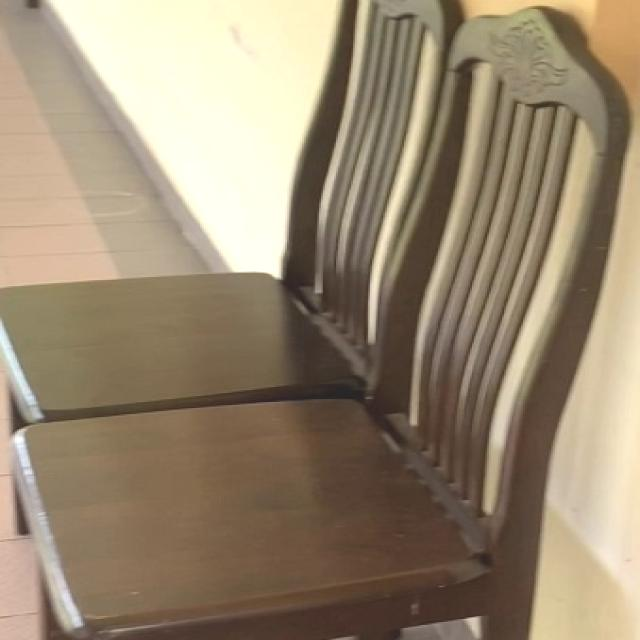Chair: (2, 2, 633, 640)
